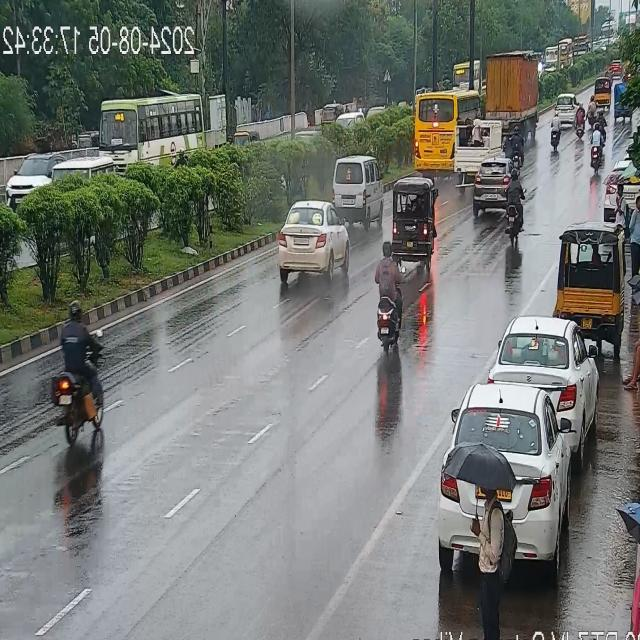2-wheelers: (48, 306, 108, 444), (368, 243, 402, 355), (506, 164, 526, 248), (546, 110, 564, 150), (590, 123, 603, 170), (574, 104, 586, 136), (588, 95, 596, 125), (598, 108, 606, 136)
auto: (554, 222, 624, 326), (390, 180, 440, 260)
bus: (93, 96, 202, 170), (412, 84, 482, 172)
car: (448, 387, 572, 513), (494, 319, 594, 432), (270, 198, 346, 284), (328, 153, 378, 218), (5, 150, 58, 200), (472, 163, 516, 215), (556, 84, 578, 127)
pedestrian: (458, 450, 516, 570), (620, 301, 640, 395), (622, 191, 640, 274), (614, 182, 630, 224)
truck: (484, 44, 544, 132), (456, 116, 504, 173)
